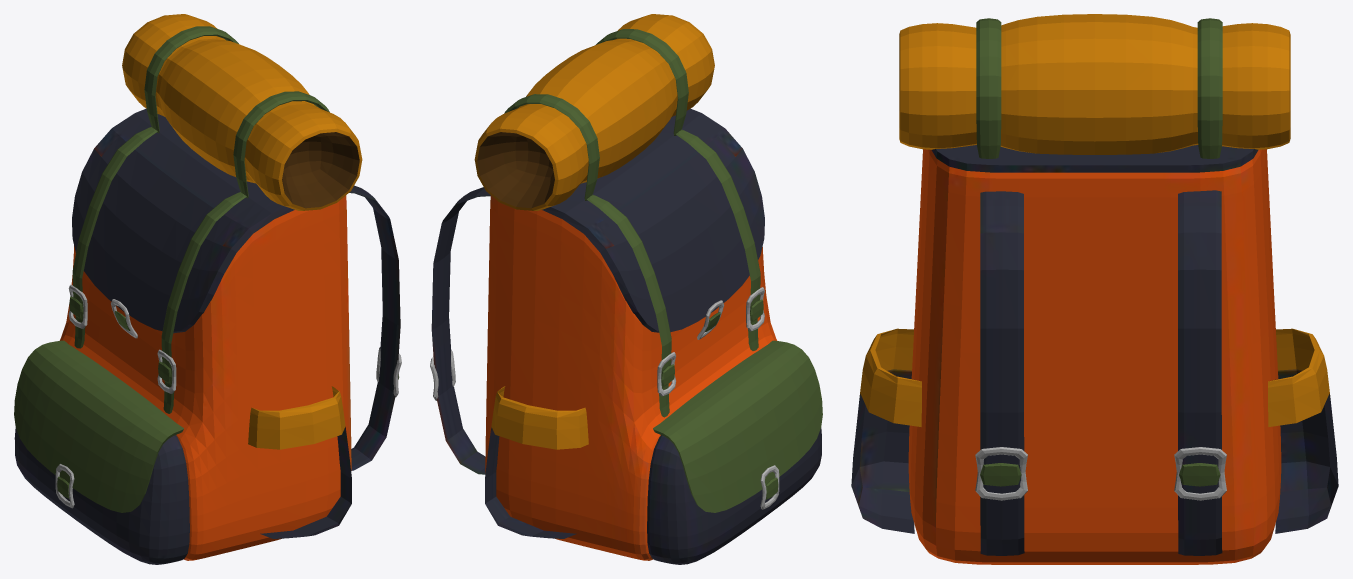
File: pack_hike.glb
3 views of the same model, side by side, from view 1: azimuth 30°, elevation 25°; view 2: azimuth 150°, elevation 25°; view 3: azimuth 270°, elevation 25° (orthographic). The views are drawn at different scales.
Size of the model in its own units: 3.57 by 4.99 by 4.13.
Materials: 6 (2 with a texture image).
